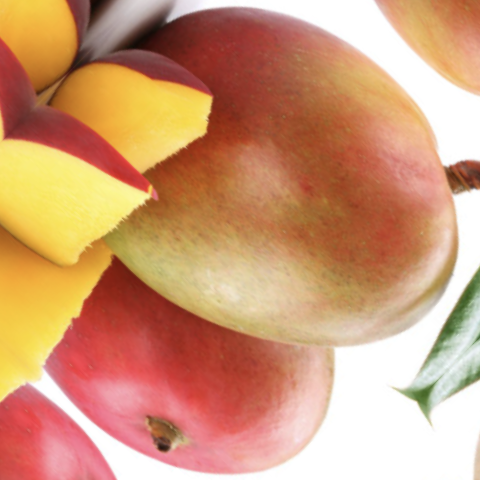mango: (6, 0, 480, 456)
